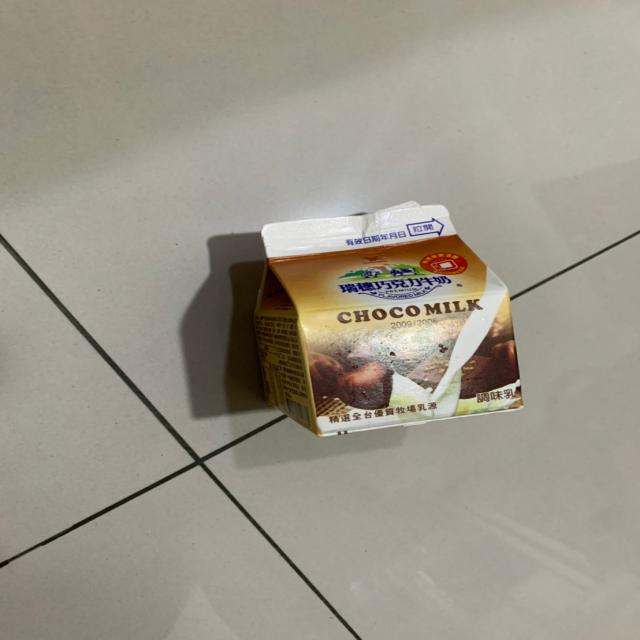non_white_jug: (214, 189, 546, 456)
